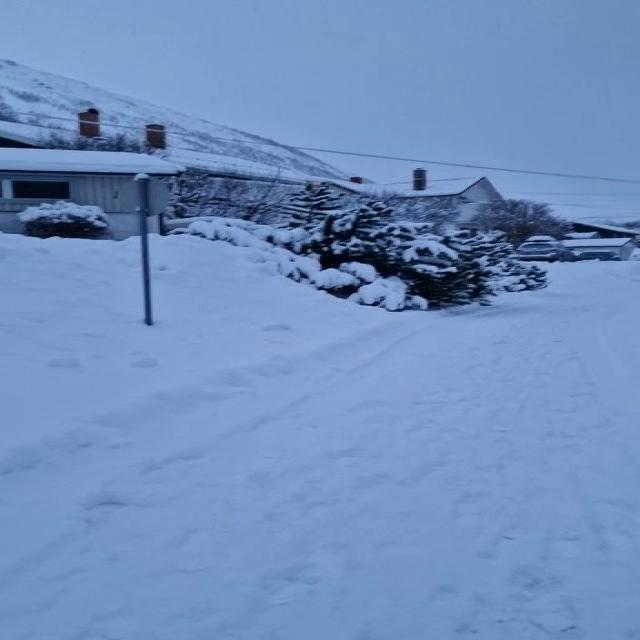path: (0, 252, 640, 640)
